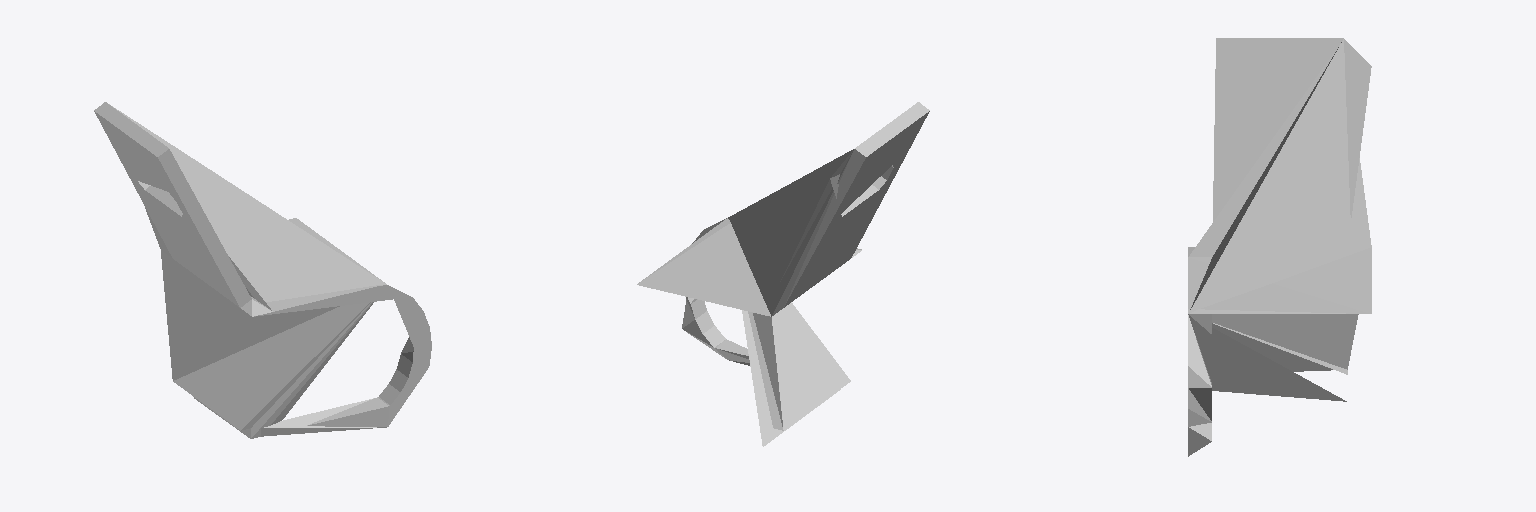
Rendered from chair_max_reduced_1669651729.925941.rr.obj.
The picture shows the model from 3 angles: view 1: azimuth 30°, elevation 25°; view 2: azimuth 150°, elevation 25°; view 3: azimuth 270°, elevation 25°; orthographic projection.
Parts seen in each view (by area): view 1: Mesh1 Model; view 2: Mesh1 Model; view 3: Mesh1 Model.
Part boxes in pixels (x1,y1,x2,y2): Mesh1 Model: (94, 102, 431, 438); Mesh1 Model: (637, 102, 929, 446); Mesh1 Model: (1188, 38, 1371, 456).
Size of the model in its own units: 0.9997 by 1.17 by 0.61.